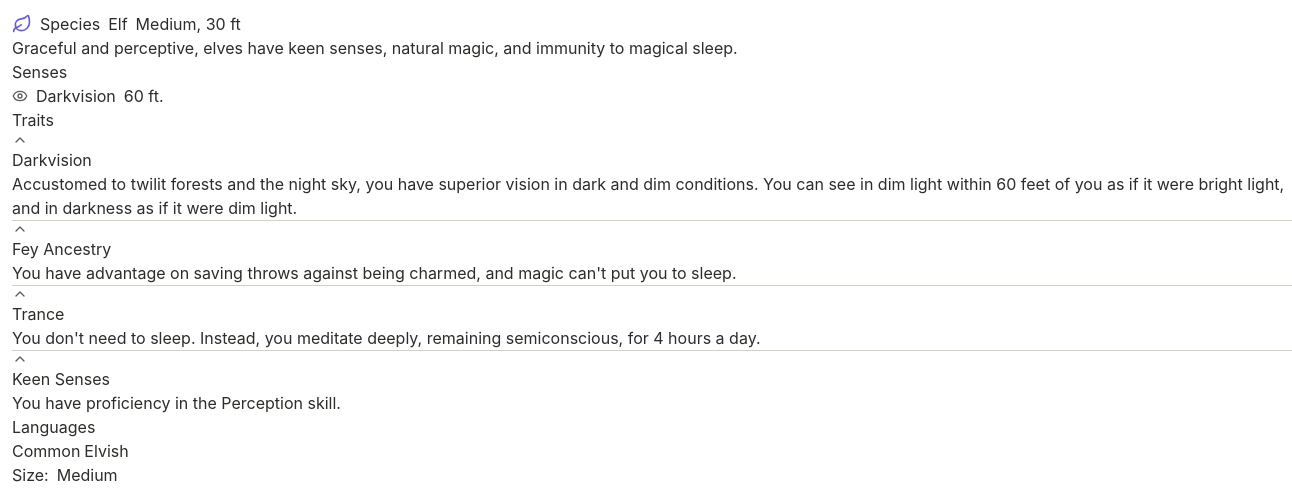
it: SpeciesPanel › expands trait description on click
This screenshot has width=1292, height=499.
Note: Click the "Darkvision" toggle
Step 1. Click the button with aria-label "Collapse Darkvision" → (52, 152), box [12, 132, 92, 172]
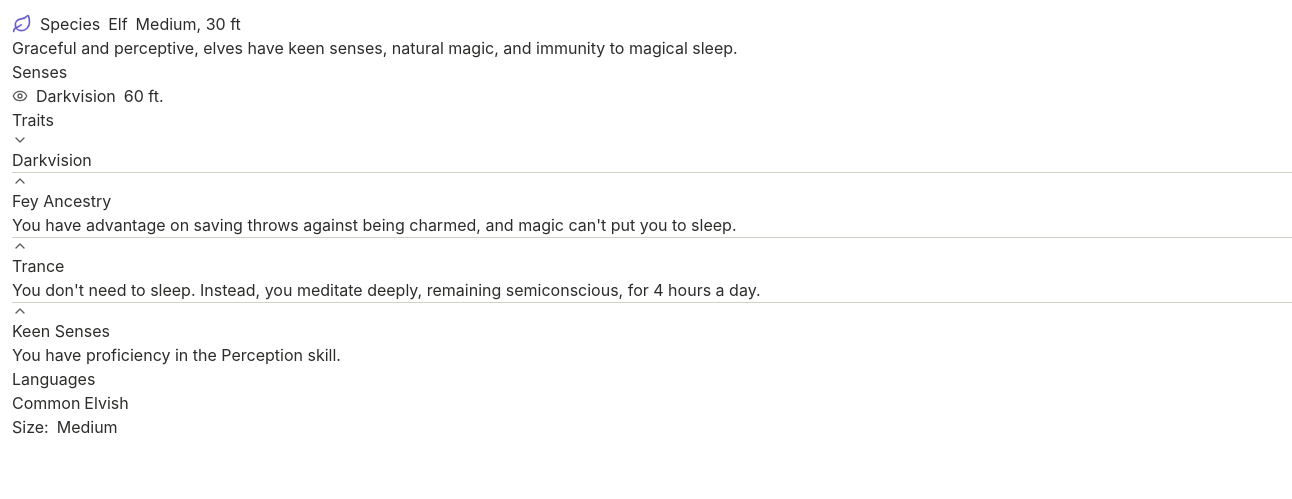
expect the button with aria-label "Expand Darkvision" is shown: met, box [12, 132, 92, 172]
